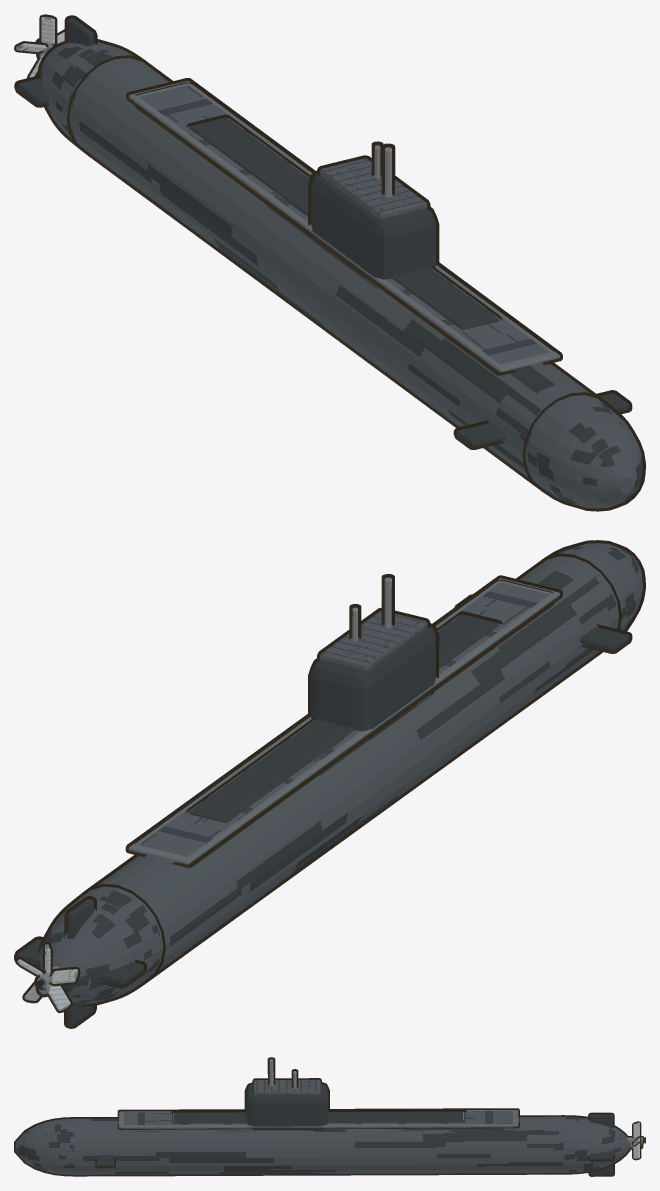
The model's file is submarine.glb.
3 renders of one model, top to bottom at view 1: azimuth 30°, elevation 25°; view 2: azimuth 150°, elevation 25°; view 3: azimuth 270°, elevation 25°, orthographic. The views are drawn at different scales.
Visible parts, largest first — view 1: Submarine, Sub_Propeller; view 2: Submarine, Sub_Propeller; view 3: Submarine, Sub_Propeller.
Part boxes in pixels (x1,y1,x2,y2): Submarine: (14, 15, 645, 511); Sub_Propeller: (14, 14, 64, 78); Submarine: (14, 540, 645, 1028); Sub_Propeller: (15, 942, 80, 1012); Submarine: (14, 1057, 643, 1176); Sub_Propeller: (626, 1121, 645, 1160).
Bounding box in the file's own units: 0.2097 × 0.2694 × 1.31.
2 materials, 1 textured.
